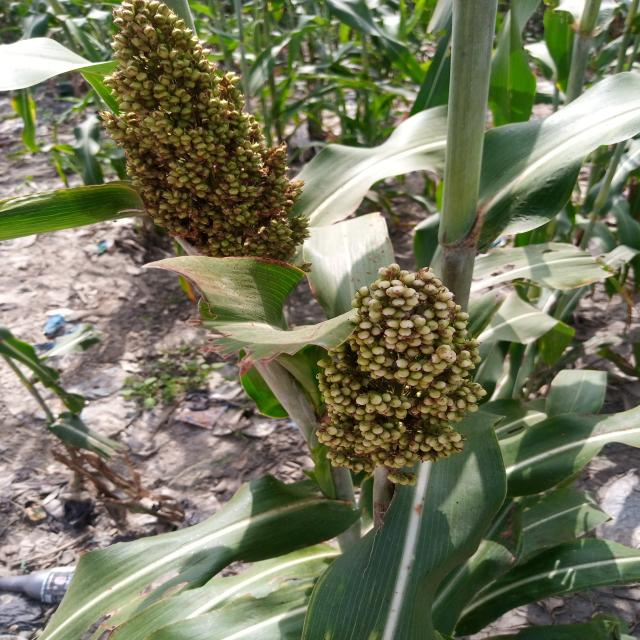UnripeSorghum: (65, 10, 345, 259), (320, 254, 514, 509)
